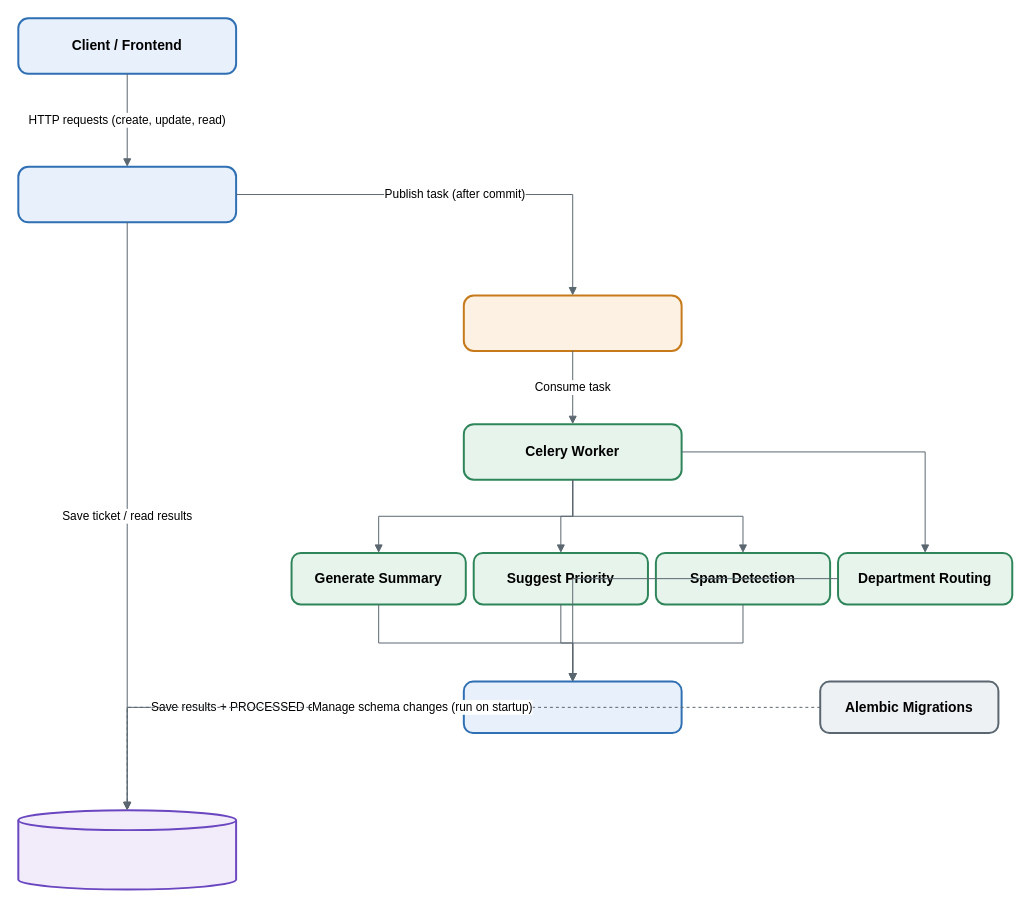
Some shapes in this 1030 by 907 pixel diagram are drawn without their labels. The centre of each missing label's shape, as x and y in pixels:
"FastAPI REST API" belongs at (127,194).
"PostgreSQL" belongs at (127,849).
"Redis (message broker)" belongs at (572,322).
"Save Processing Results" belongs at (572,707).
